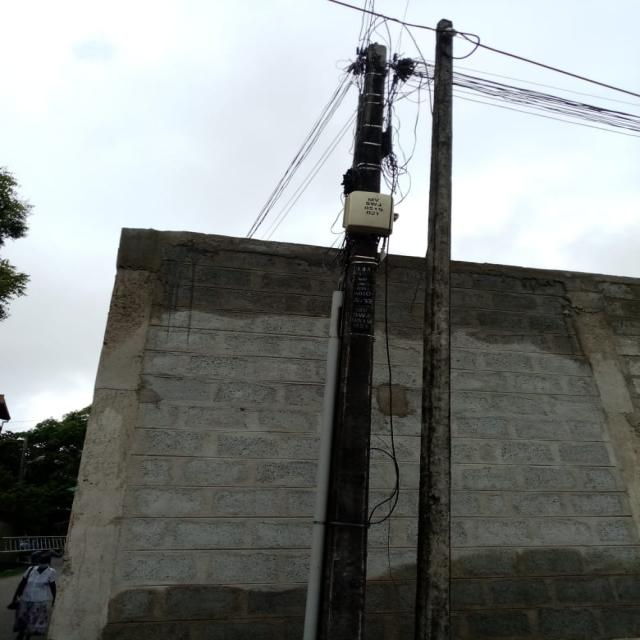light_pole: (299, 32, 396, 640)
